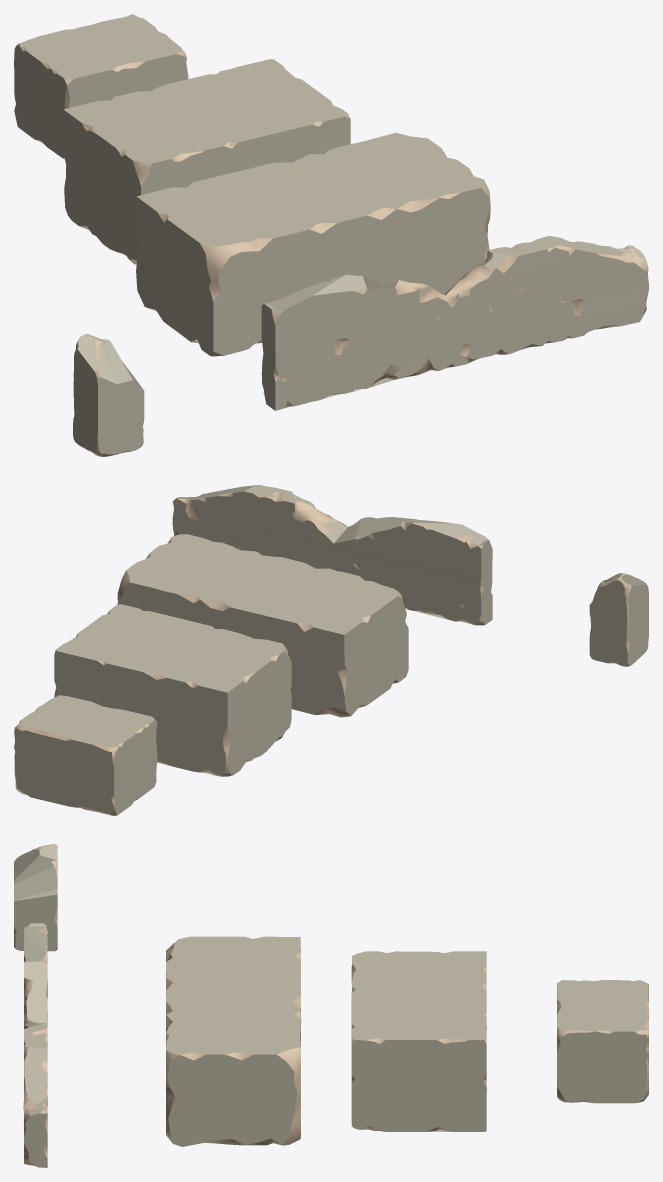
File: Wall Blocs.fbx
3 views of the same model, one above another, from view 1: azimuth 30°, elevation 25°; view 2: azimuth 150°, elevation 25°; view 3: azimuth 270°, elevation 25° (orthographic). The views are drawn at different scales.
Visible parts, largest first — view 1: Bloc_01, Wall_01, Bloc_02, Bloc_03, Wall_Bloc_01; view 2: Bloc_01, Bloc_02, Wall_01, Bloc_03, Wall_Bloc_01; view 3: Bloc_01, Bloc_02, Bloc_03, Wall_01, Wall_Bloc_01.
Boxes of the visible parts, x1,y1,x2,y2 form: Bloc_01: (135,132,490,356); Wall_01: (261,236,648,410); Bloc_02: (63,59,350,264); Bloc_03: (14,14,188,158); Wall_Bloc_01: (73,334,144,456); Bloc_01: (117,534,408,717); Bloc_02: (54,604,291,776); Wall_01: (172,485,492,625); Bloc_03: (14,695,157,815); Wall_Bloc_01: (589,573,648,666); Bloc_01: (165,936,301,1146); Bloc_02: (351,951,486,1131); Bloc_03: (557,980,648,1103); Wall_01: (23,923,47,1167); Wall_Bloc_01: (14,844,57,951).
Size of the model in its own units: 1592 by 326 by 1808.
